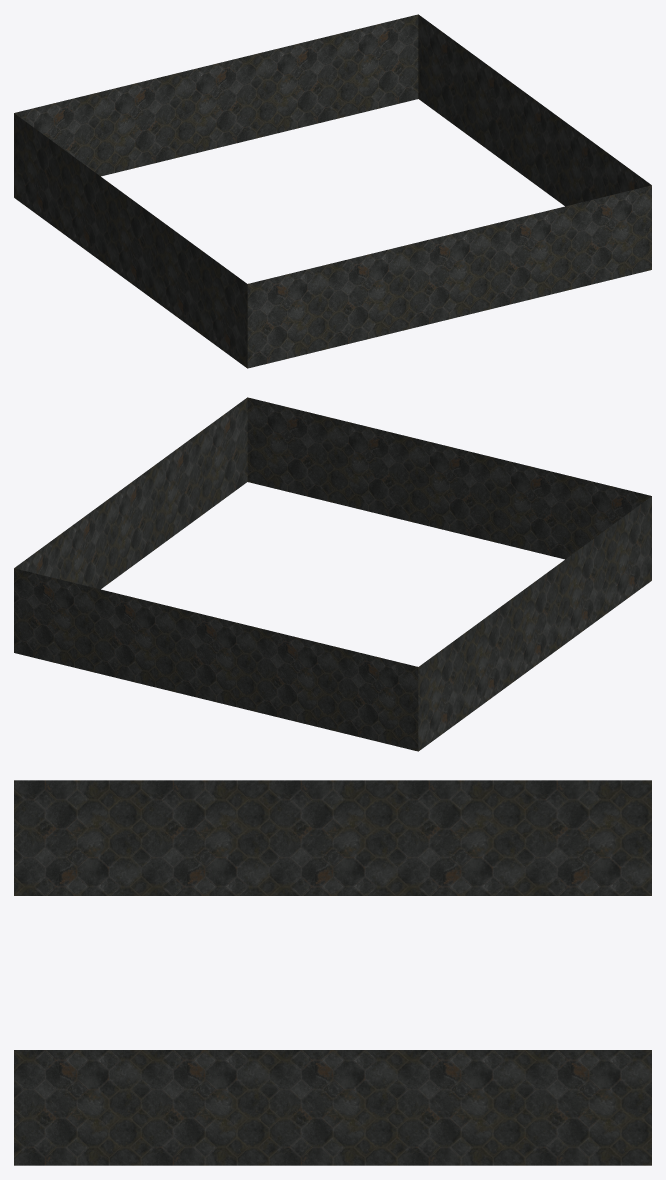
The model's file is walls.obj.
3 views of the same model, one above another, from view 1: azimuth 30°, elevation 25°; view 2: azimuth 150°, elevation 25°; view 3: azimuth 270°, elevation 25° (orthographic). The views are drawn at different scales.
Parts seen in each view (by area): view 1: Walls; view 2: Walls; view 3: Walls.
Part boxes in pixels (left/top/right/bottom): Walls: left=14, top=14, right=651, bottom=368; Walls: left=14, top=397, right=651, bottom=751; Walls: left=14, top=780, right=651, bottom=1165.
Size of the model in its own units: 30 by 6 by 30.
Materials: 1 (1 with a texture image).
